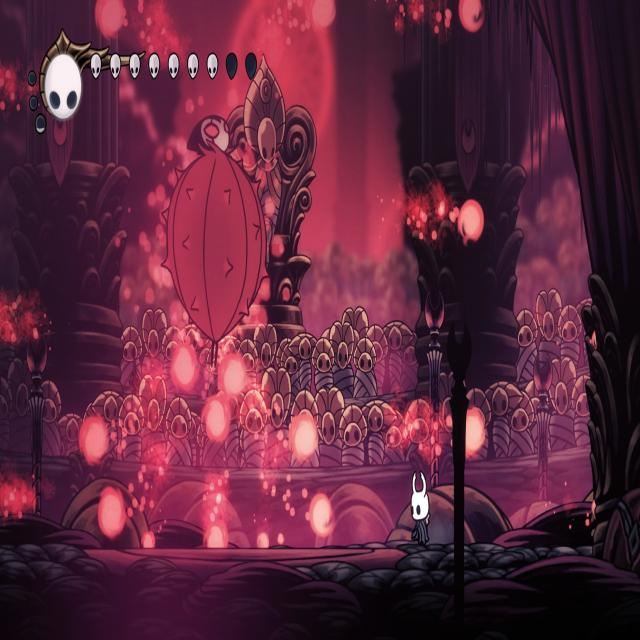Player: (409, 464, 435, 547)
Pufferfish: (157, 111, 272, 383)
Tiny Fireballs: (80, 416, 109, 466), (98, 487, 125, 537), (291, 414, 319, 461), (203, 396, 230, 443), (171, 344, 197, 392), (218, 355, 246, 399), (461, 407, 485, 458), (95, 0, 125, 38), (457, 199, 482, 242), (310, 494, 332, 536), (308, 0, 335, 31), (459, 0, 483, 34), (205, 520, 228, 548)
